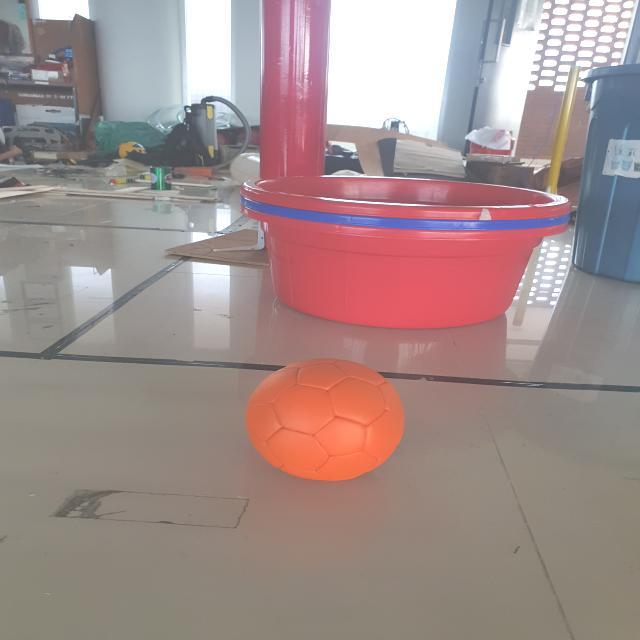bola: (239, 352, 416, 486)
